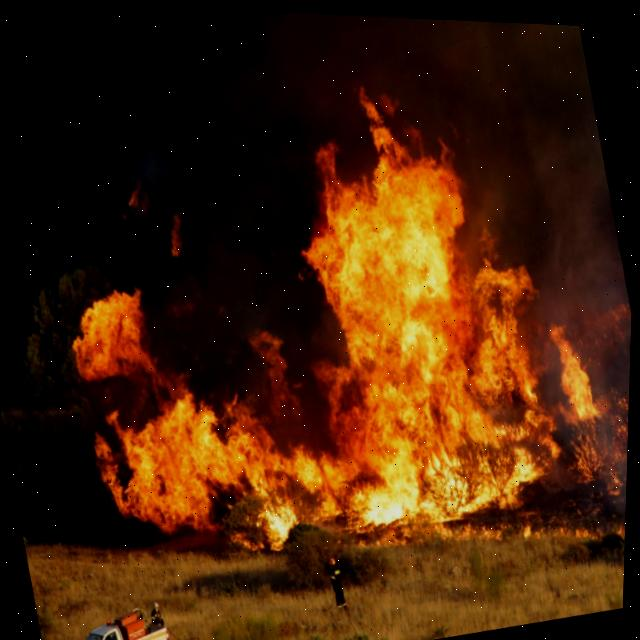fire: (77, 83, 607, 547)
smoke: (139, 10, 633, 518)
